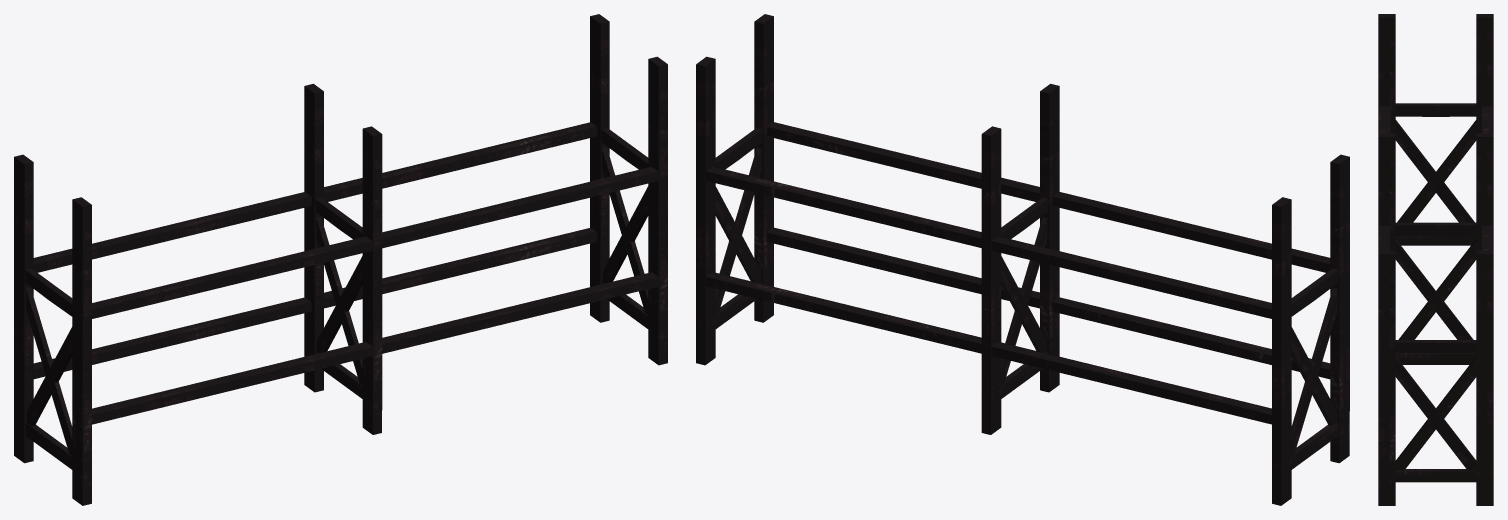
The model's file is SM_EC_BarnShelf_1.fbx.
The picture shows the model from 3 angles, left to right: view 1: azimuth 30°, elevation 25°; view 2: azimuth 150°, elevation 25°; view 3: azimuth 270°, elevation 25°; orthographic projection. The views are drawn at different scales.
Visible parts, largest first — view 1: SM_EC_BarnShelf_1; view 2: SM_EC_BarnShelf_1; view 3: SM_EC_BarnShelf_1.
Part boxes in pixels (x1,y1,x2,y2): SM_EC_BarnShelf_1: [14, 14, 667, 505]; SM_EC_BarnShelf_1: [696, 14, 1349, 505]; SM_EC_BarnShelf_1: [1378, 14, 1493, 505].
Size of the model in its own units: 6.38 by 1.3 by 3.12.
